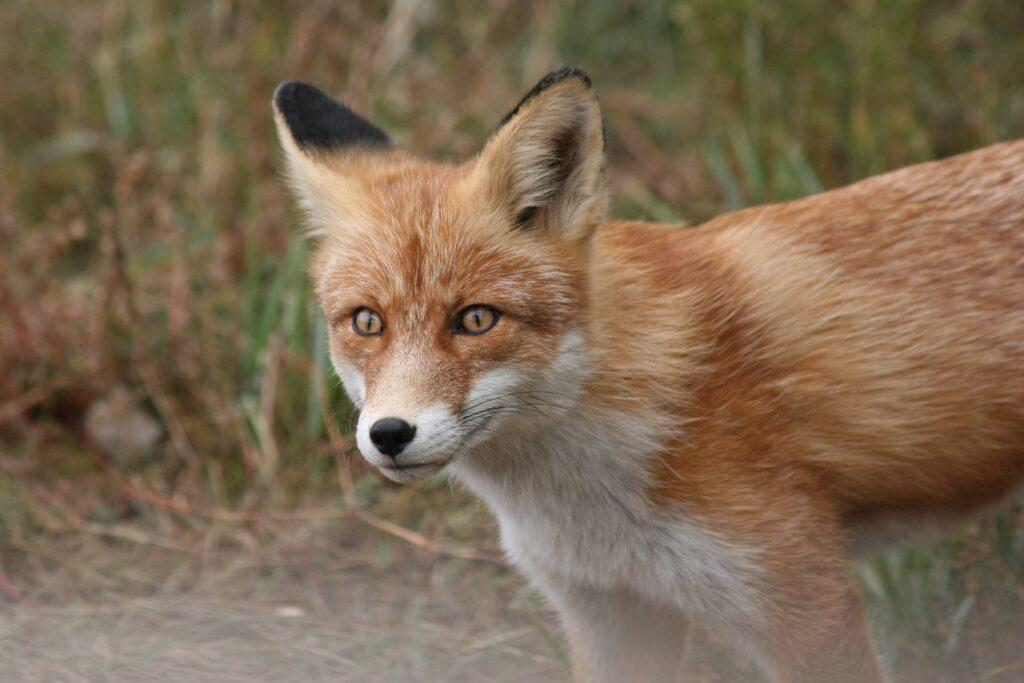fox: (264, 61, 1024, 683)
